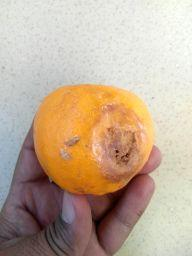Unripe: (33, 84, 156, 197)
